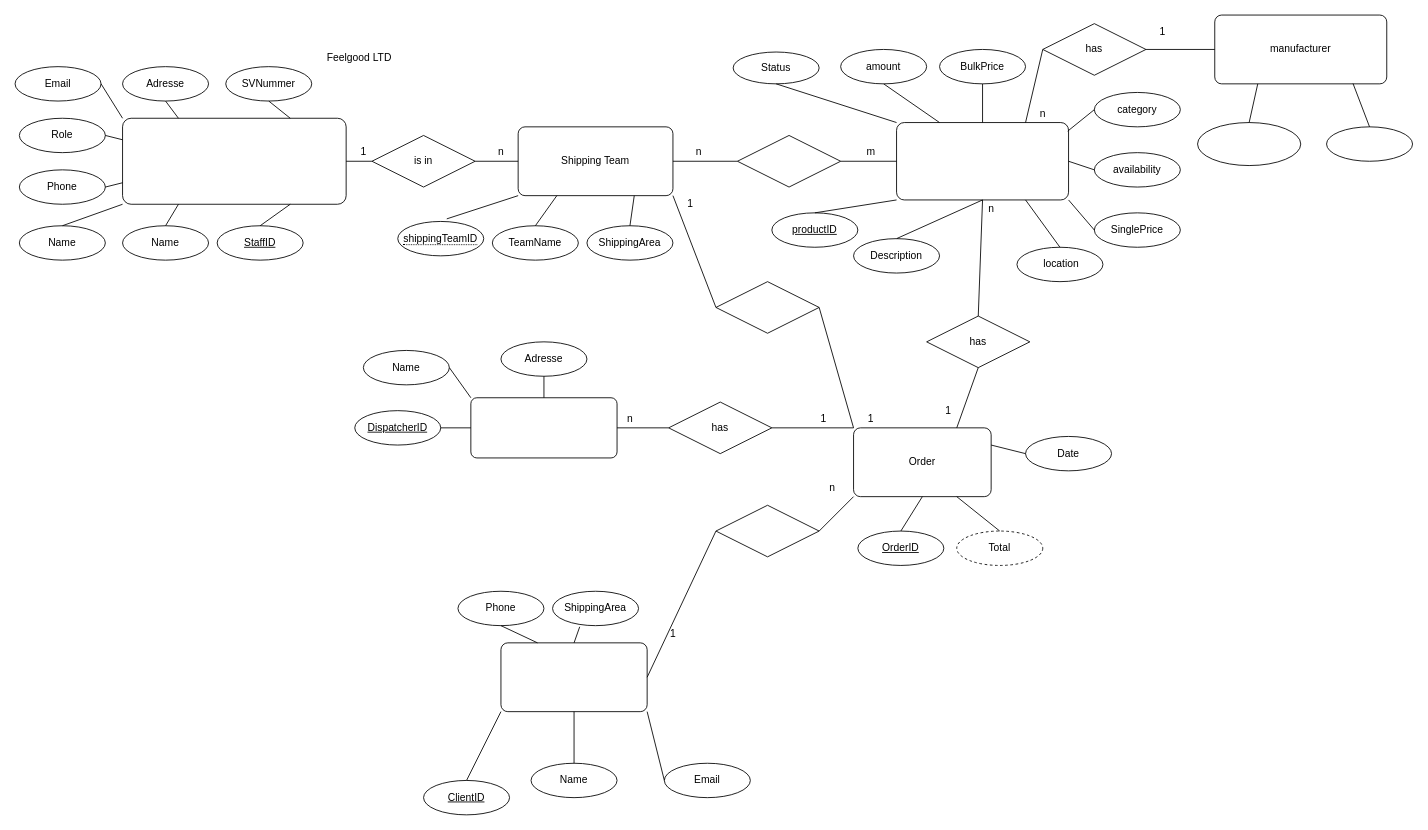
This 1428x830 diagram has some shape labels left out. The shapes that lost their labels are listed below. From the top down, each one's centre as x and y in pixels, then its label:
At point 234,160: "Staffmember".
At point 789,161: "ships".
At point 982,161: "Product".
At point 1249,144: "ManufacturerName".
At point 1369,143: "ManuID".
At point 767,307: "realizes".
At point 543,427: "Dispatcher".
At point 767,530: "places".
At point 573,677: "Client".
